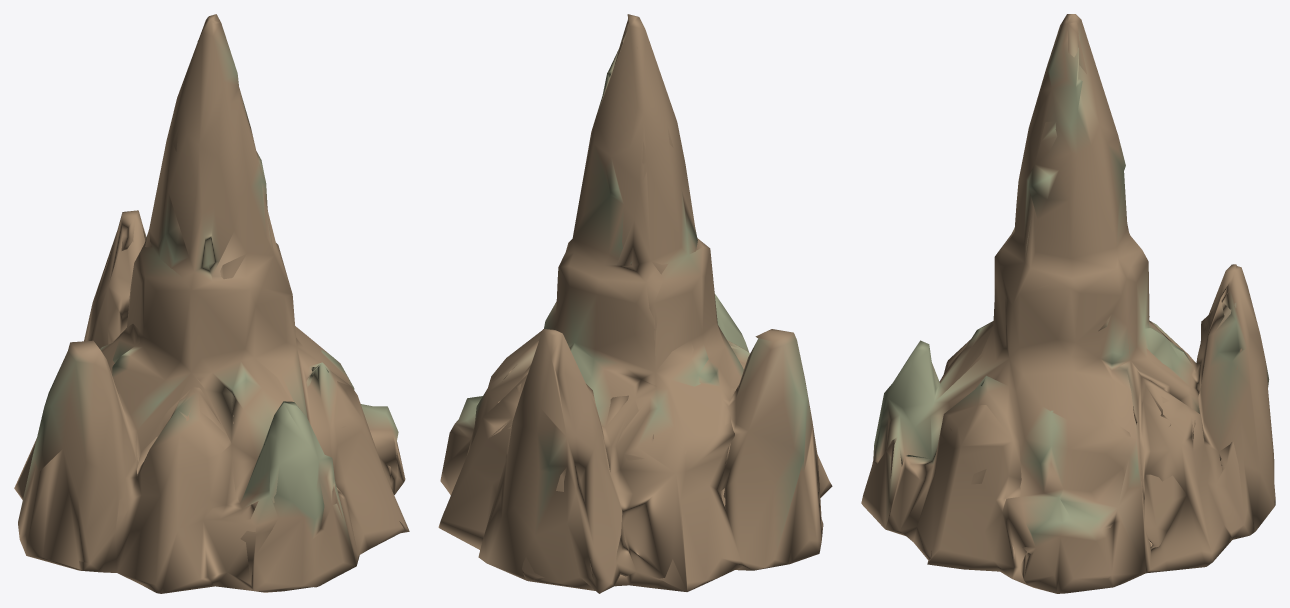
Rendered from gen3d-stalagmite-lod0.glb.
3 views of the same model, side by side, from view 1: azimuth 30°, elevation 25°; view 2: azimuth 150°, elevation 25°; view 3: azimuth 270°, elevation 25° (orthographic).
Visible parts, largest first — view 1: part_0; view 2: part_0; view 3: part_0.
Boxes of the visible parts, bbox=[...] form: part_0: bbox=[14, 14, 409, 593]; part_0: bbox=[438, 14, 832, 593]; part_0: bbox=[861, 14, 1275, 593].
Size of the model in its own units: 0.779 by 0.9969 by 0.76.
